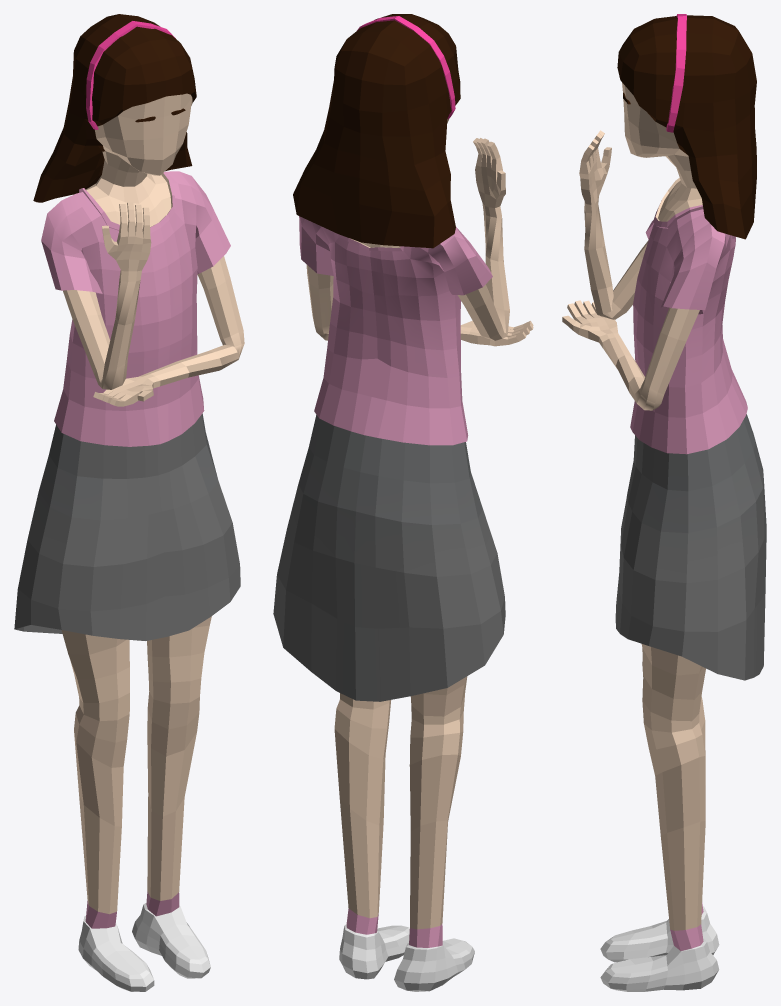
The model's file is chica.obj.
The picture shows the model from 3 angles, left to right: view 1: azimuth 30°, elevation 25°; view 2: azimuth 150°, elevation 25°; view 3: azimuth 270°, elevation 25°; orthographic projection. The views are drawn at different scales.
Visible parts, largest first — view 1: Girl_12_yr; view 2: Girl_12_yr; view 3: Girl_12_yr.
Part boxes in pixels (x1,y1,x2,y2): Girl_12_yr: (14,14,244,991); Girl_12_yr: (273,14,533,991); Girl_12_yr: (562,14,766,991).
Bounding box in the file's own units: 13.17 × 56.71 × 10.98.
Materials: 1 (1 with a texture image).
